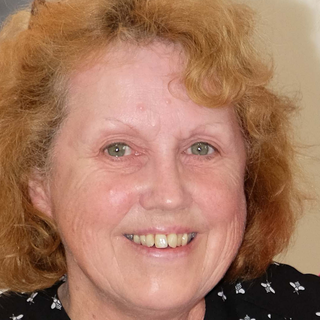eye: (94, 140, 143, 164), (177, 139, 223, 163)
